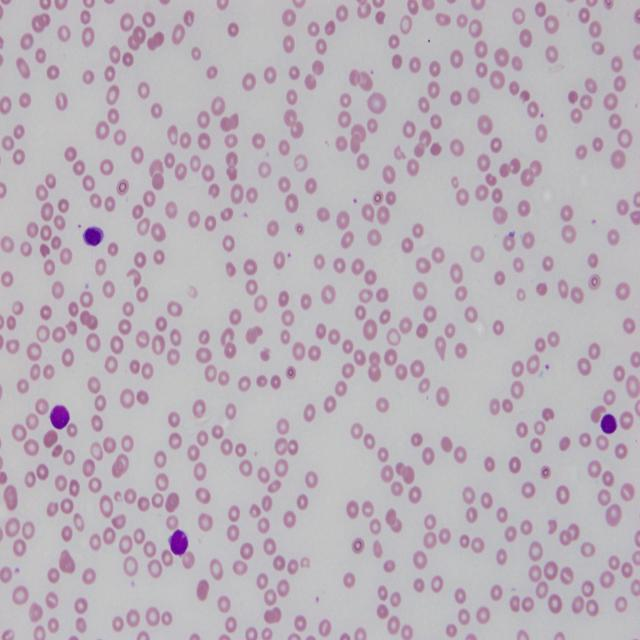cell: (50, 405, 70, 430), (169, 530, 189, 555), (84, 227, 104, 246), (600, 413, 618, 433)
